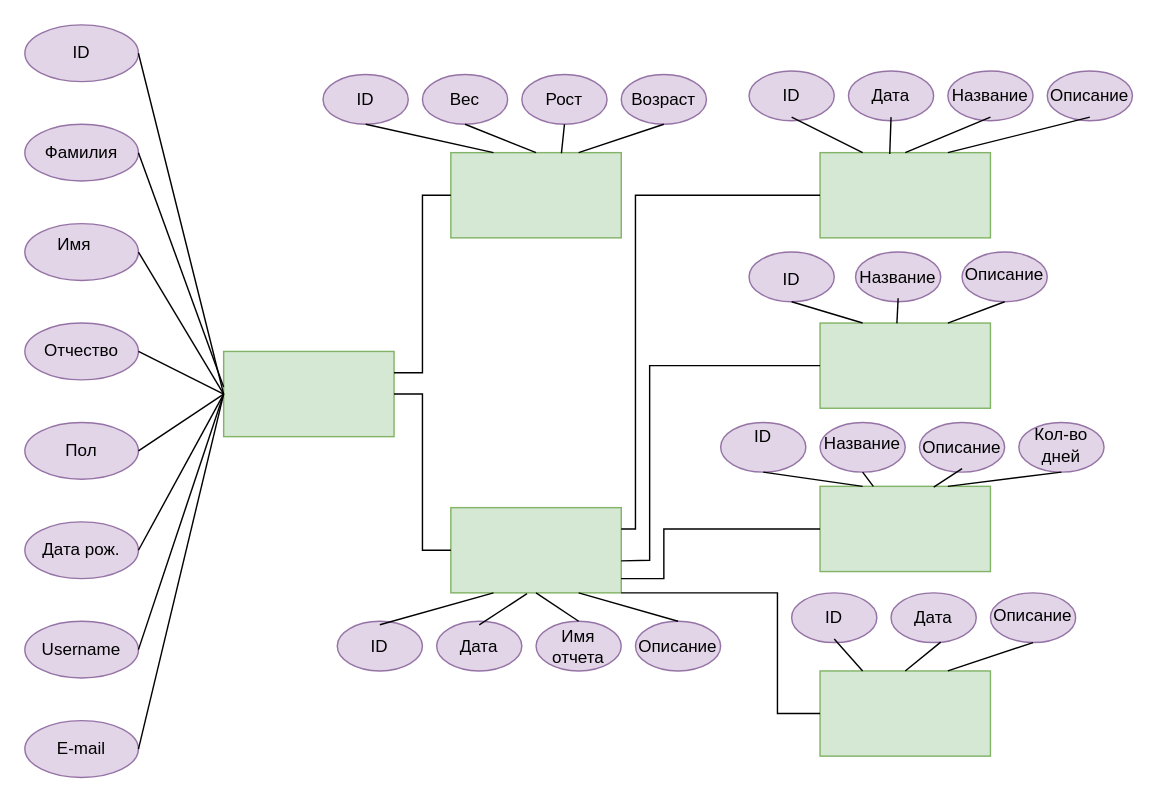
The diagram is 1157 pixels wide and 802 high, and some of its shapes have lost their labels. Each missing label, with the centre of its shape:
Био. данные: the point at 535,194
Дневник питания: the point at 535,549
Информация о диете: the point at 904,194
Информация о продуктах: the point at 904,365
История веса: the point at 904,713
Пользователи: the point at 308,393
Упражнения: the point at 904,528
